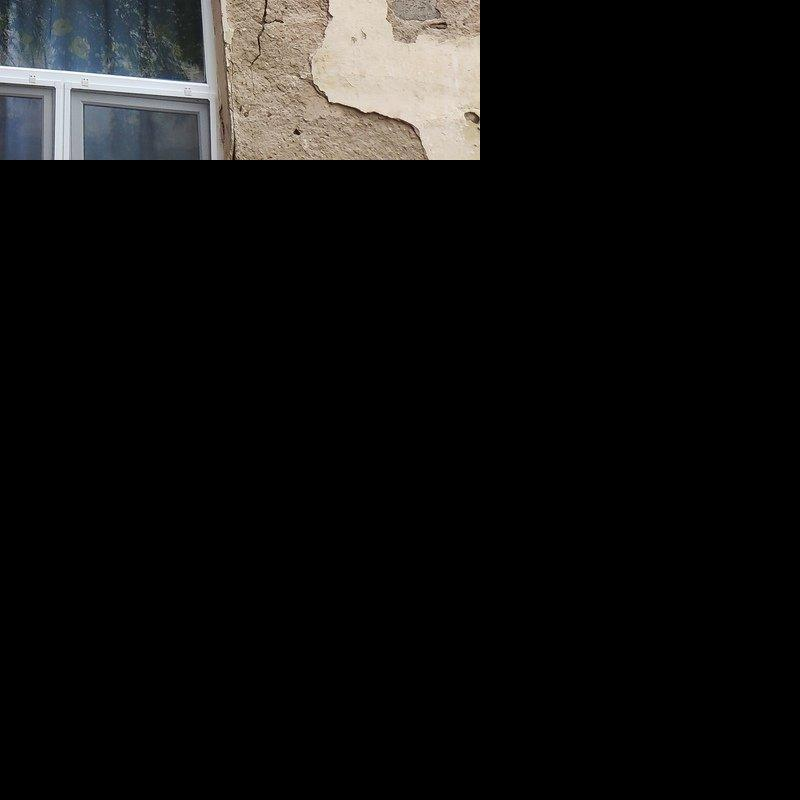pothole: (248, 0, 269, 70)
